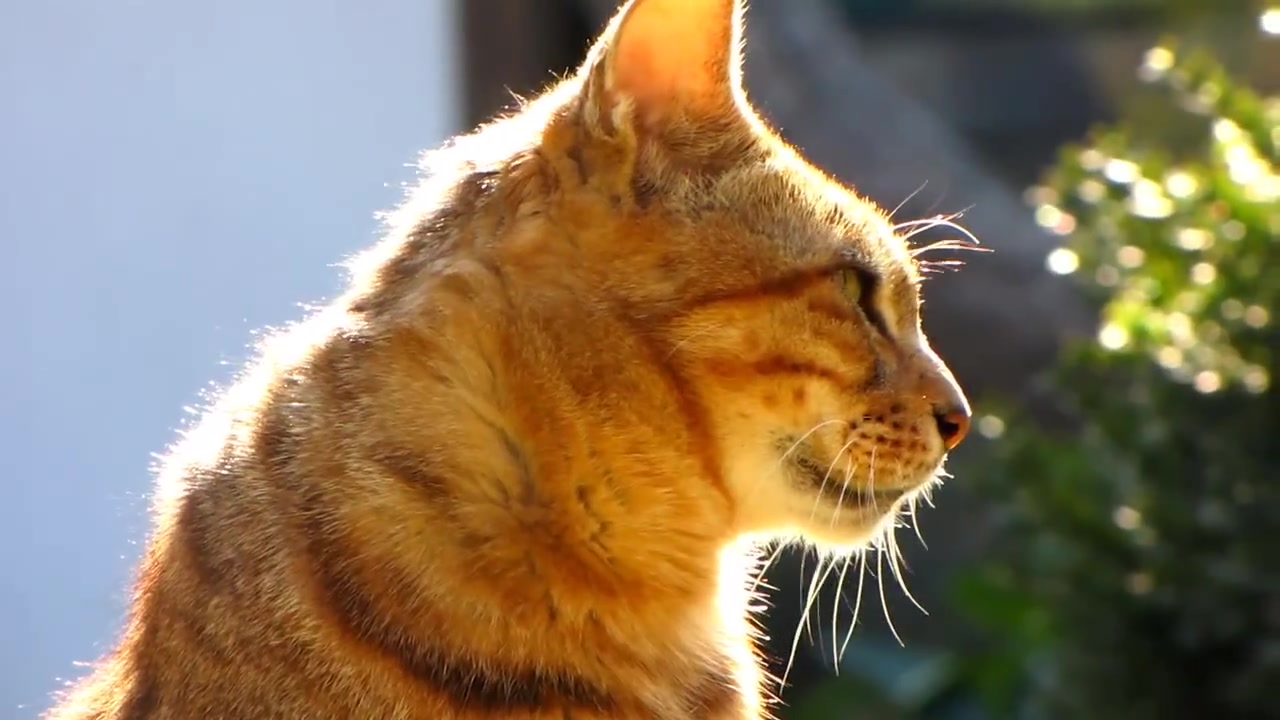cat: (42, 1, 974, 720)
